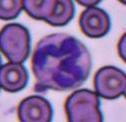N: (31, 32, 91, 90)
